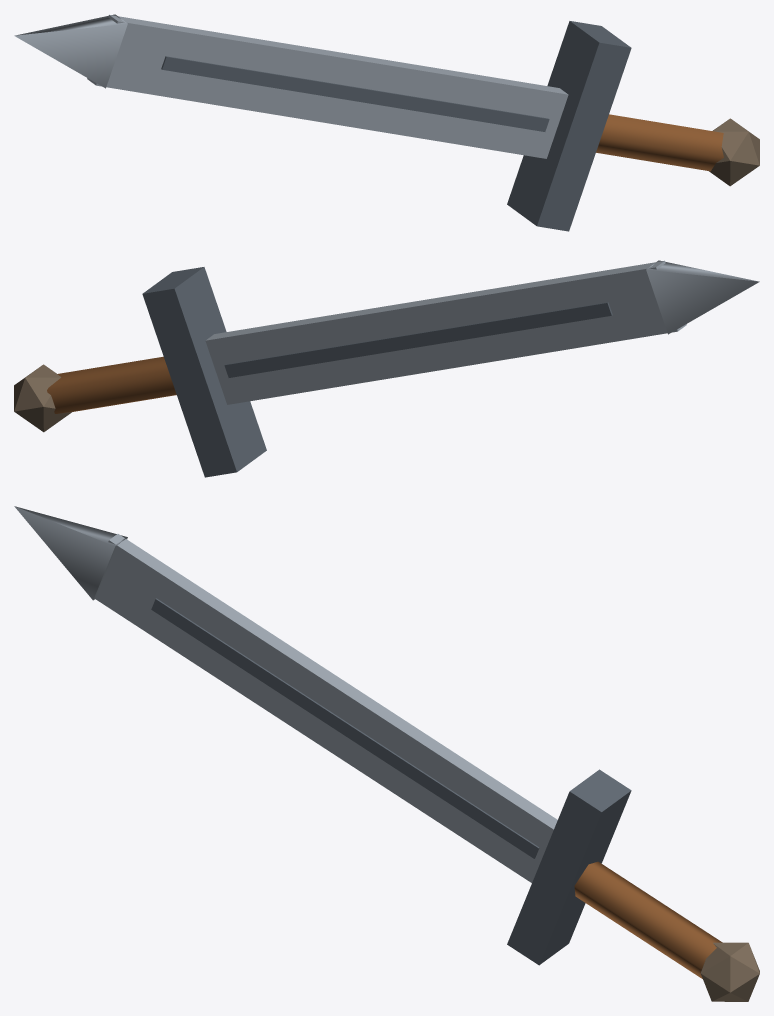
File: drop_weapon.glb
The picture shows the model from 3 angles, top to bottom: view 1: azimuth 30°, elevation 25°; view 2: azimuth 150°, elevation 25°; view 3: azimuth 330°, elevation 25°; orthographic projection.
Parts seen in each view (by area): view 1: item_metal1, item_darkMetal1, item_leather1, item_trim1; view 2: item_metal1, item_darkMetal1, item_leather1, item_trim1; view 3: item_metal1, item_darkMetal1, item_leather1, item_trim1.
Boxes of the visible parts, left/top/right/bottom form: item_metal1: left=14, top=14, right=568, bottom=158; item_darkMetal1: left=161, top=21, right=631, bottom=231; item_leather1: left=596, top=114, right=723, bottom=171; item_trim1: left=709, top=118, right=759, bottom=186; item_metal1: left=205, top=260, right=759, bottom=404; item_darkMetal1: left=142, top=267, right=612, bottom=477; item_leather1: left=47, top=356, right=176, bottom=413; item_trim1: left=14, top=364, right=71, bottom=432; item_metal1: left=14, top=506, right=557, bottom=882; item_darkMetal1: left=151, top=598, right=631, bottom=965; item_leather1: left=574, top=861, right=722, bottom=978; item_trim1: left=700, top=942, right=759, bottom=1001.
Bounding box in the file's own units: 0.8639 × 0.3505 × 0.06.
